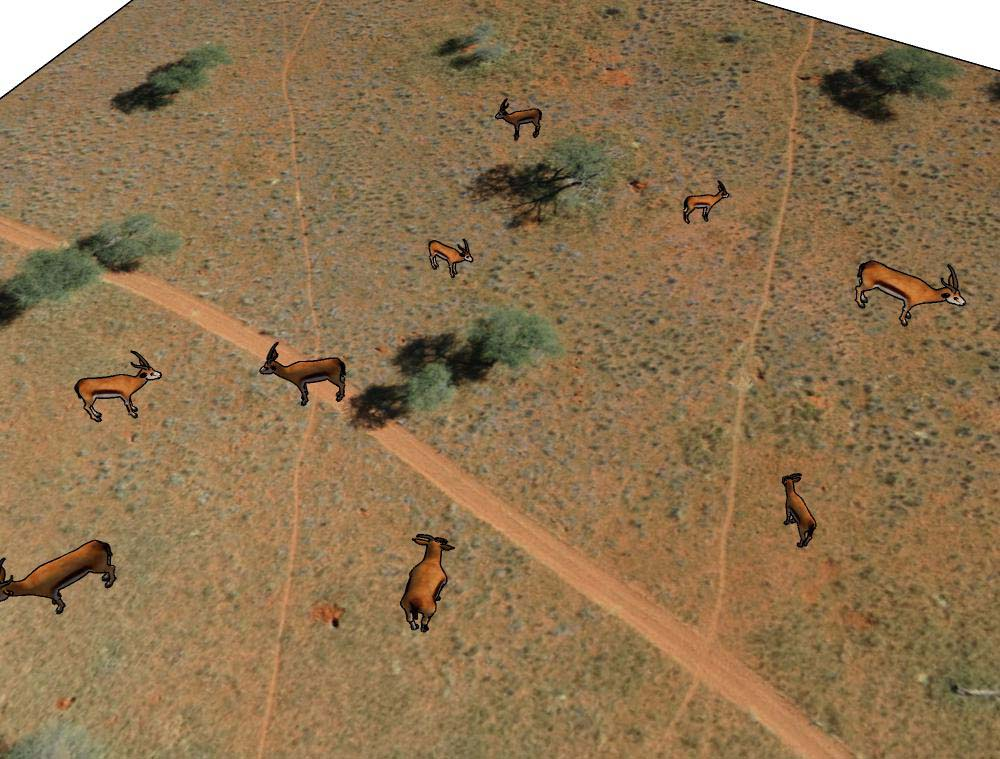springbok: (1, 538, 122, 618), (851, 251, 965, 325), (391, 531, 460, 638), (72, 348, 163, 425), (252, 343, 352, 405), (774, 470, 818, 551), (487, 99, 551, 144), (677, 178, 739, 223), (420, 232, 476, 278)
